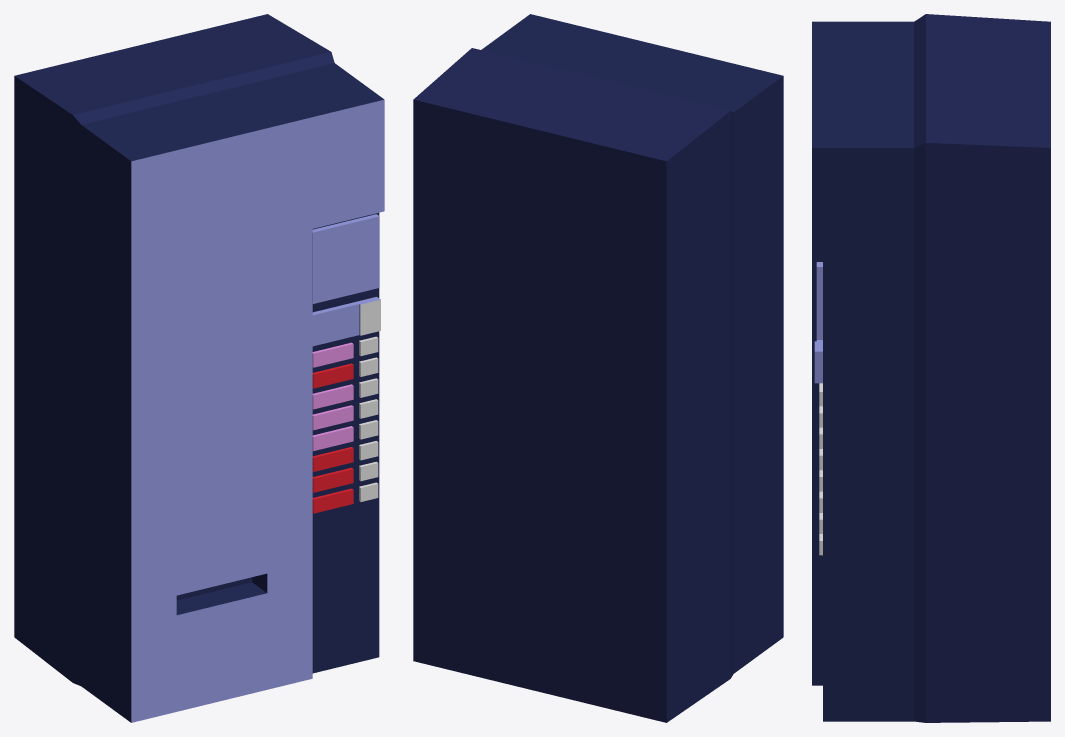
File: VendingMachine.fbx
3 renders of one model, left to right at view 1: azimuth 30°, elevation 25°; view 2: azimuth 150°, elevation 25°; view 3: azimuth 270°, elevation 25°, orthographic. The views are drawn at different scales.
Visible parts, largest first — view 1: Cube.092; view 2: Cube.092; view 3: Cube.092.
Part boxes in pixels (<box>): Cube.092: <box>14,14,384,722</box>; Cube.092: <box>413,14,783,722</box>; Cube.092: <box>812,14,1050,722</box>.
Size of the model in its own units: 118 by 248 by 92.56.
